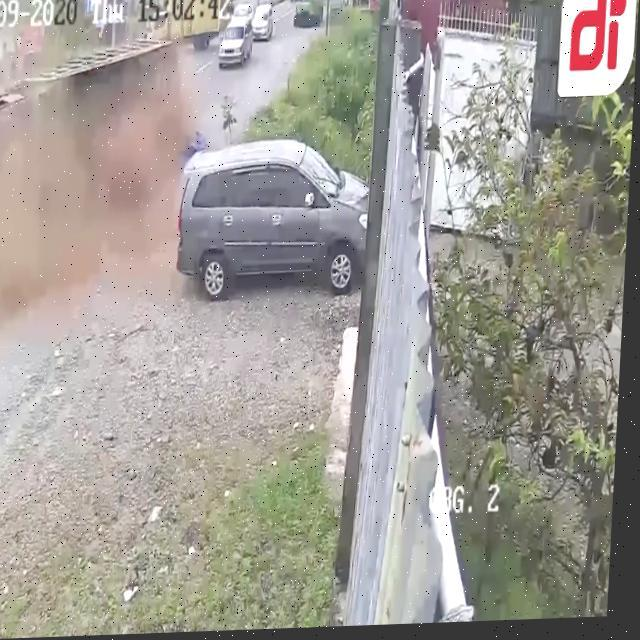multiple_accident: (2, 17, 500, 353)
